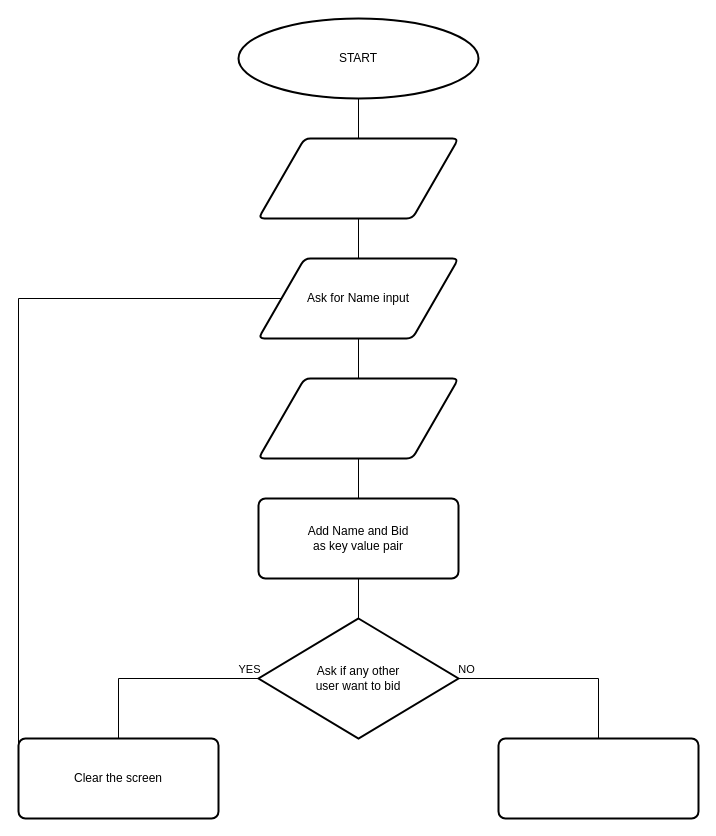
Some shapes in this 716 by 836 pixel diagram are drawn without their labels. The shapes that lost their labels are listed below. From the top down, each one's centre as x and y in pixels, then its label:
pixel 358 178: Show gavel
pixel 358 418: Ask for Bid price
pixel 598 778: Find the highest bid in the dictionary declare it as winner
